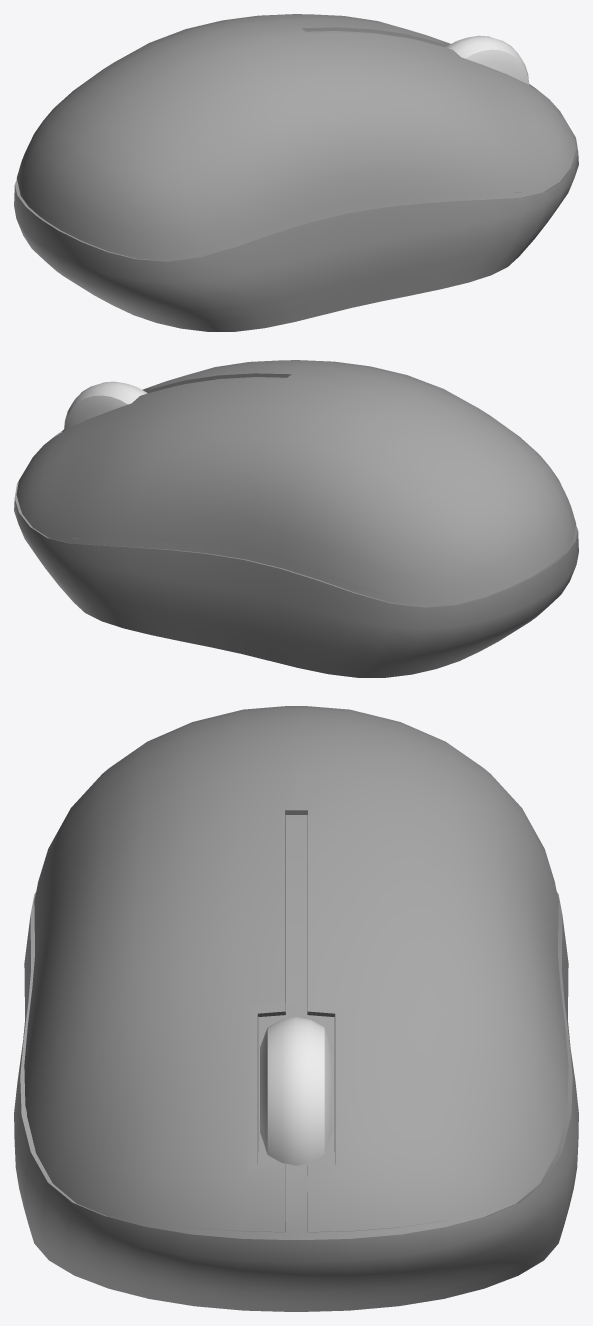
File: F_Mouse.fbx
3 renders of one model, top to bottom at view 1: azimuth 30°, elevation 25°; view 2: azimuth 150°, elevation 25°; view 3: azimuth 270°, elevation 25°, orthographic. The views are drawn at different scales.
Visible parts, largest first — view 1: F_Mouse; view 2: F_Mouse; view 3: F_Mouse.
Part boxes in pixels (x1,y1,x2,y2): F_Mouse: (14,14,578,331); F_Mouse: (14,360,578,677); F_Mouse: (14,706,578,1311).
Size of the model in its own units: 11.19 by 4.52 by 6.5.
1 material, 1 textured.
